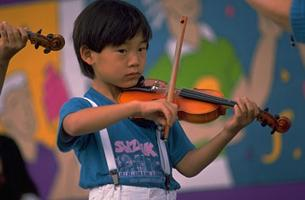person: (56, 1, 262, 200)
